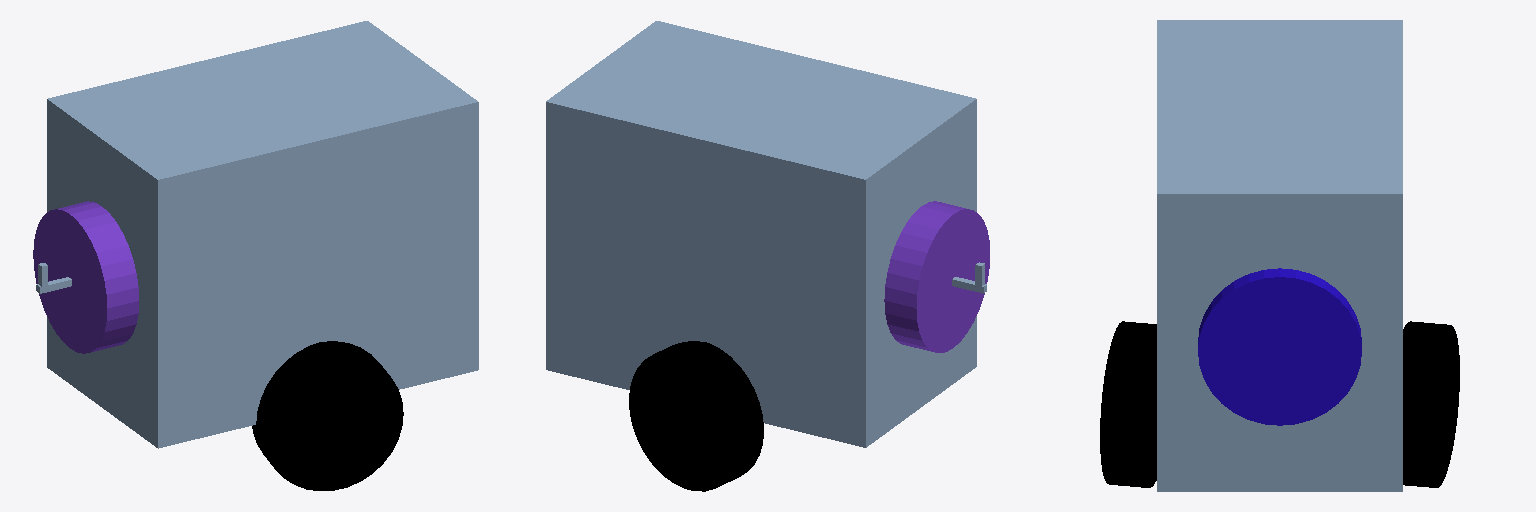
robot.urdf — simplecar:
<robot name="simplecar">
    <!-- Colors --> 
    <material name="black"> 
        <color rgba="0 0 0 1"/>
    </material>
    <material name="blue"> 
        <color rgba="0.6 0.7 0.8 1"/>
    </material>
    <material name="red"> 
        <color rgba="0.2 0.1 0.8 1"/>
    </material>
    <material name="dark"> 
        <color rgba="0.5 0.3 0.8 1"/>
    </material>

    <!-- Base Frame of Car --> 
    <link name="base_link">
        <visual> 
            <geometry> 
                <box size="0.5 0.3 0.4"/>
            </geometry>
            <material name="blue"/>
        </visual>
        <collision>
            <geometry> 
                <box size="0.5 0.3 0.4"/>
            </geometry>

         </collision>
        <inertial> 
            <mass value="3"/>
            <inertia ixx="0.2" ixy="0" ixz="0" iyy="0.2" iyz="0.0" izz="0.2"/>
        </inertial> 
    </link> 


  <link name = "male">
      <visual>
       <geometry> 
                <cylinder length="0.05" radius="0.1"/>
            </geometry>
            <origin rpy="0 1.57 0"/>
            <material name="red"/>
        </visual>
        <collision> 
             <geometry> 
                <cylinder length="0.05" radius="0.1"/>
            </geometry>
            <origin rpy="0 1.57 0"/>
        </collision> 
        <inertial> 
            <origin rpy="0 1.57 0"/>
            <mass value="0"/>
            <inertia ixx="0.4" ixy="0" ixz="0" iyy="0.4" iyz="0.0" izz="0.2"/>
        </inertial> 
    </link> 

    <joint name="male_base" type="continuous">
        <parent link="base_link"/>
        <child link="male"/> 
        <axis xyz="0 0 1"/>
        <origin xyz="0.25 0 0"/>
    </joint>


  <link name = "female">
      <visual>
       <geometry> 
                <cylinder length="0.05" radius="0.1"/>
            </geometry>
            <origin rpy="0 1.57 0"/>
            <material name="dark"/>
        </visual>
        <collision> 
             <geometry> 
                <cylinder length="0.05" radius="0.1"/>
            </geometry>
            <origin rpy="0 1.57 0"/>
        </collision> 
        <inertial> 
            <origin rpy="0 1.57 0"/>
            <mass value="0"/>
            <inertia ixx="0.4" ixy="0" ixz="0" iyy="0.4" iyz="0.0" izz="0.2"/>
        </inertial> 
    </link> 

    <joint name="female_base" type="continuous">
        <parent link="base_link"/>
        <child link="female"/> 
        <axis xyz="1 0 0"/>
        <origin xyz="-0.275 0 0"/>
    </joint>




    
    <link name="hook">
        <visual> 
            <geometry> 
                <box size="0.05 0.01 0.01"/>
            </geometry>
            <material name="blue"/>
        </visual>
        <collision>
              <geometry> 
                <box size="0.05 0.01 0.01"/>
            </geometry>

        </collision>
       
        <inertial> 
            <mass value="0"/>
            <inertia ixx="0.2" ixy="0" ixz="0" iyy="0.2" iyz="0.0" izz="0.2"/>
        </inertial> 
       
    </link> 

  
   <joint name="hook_body" type = "continuous">
   <parent link = "female"/>
    <child link= "hook"/>
    <axis xyz = "1 0 0"/>
    <origin xyz = "-0.05 0 0"/>
   </joint>

 <link name= "hookup" >
        <visual> 
            <geometry> 
                <box size="0.01 0.01 0.03"/>
            </geometry>
            <material name="blue"/>
        </visual>

        <collision>
           <geometry> 
                <box size="0.01 0.01 0.03"/>
            </geometry>
        </collision>
        <inertial> 
            <mass value="0"/>
            <inertia ixx="0.2" ixy="0" ixz="0" iyy="0.2" iyz="0.0" izz="0.2"/>
        </inertial> 
       
    </link> 
   
     <joint name = "Hook1" type = "fixed">
      <parent link="hook"/>
        <child link="hookup"/> 
        <origin xyz="-0.017 0 0.02"/>


     </joint>

   
 <!-- Left Back Wheel -->
    <link name="left_back_wheel">
        <visual> 
            <geometry> 
                <cylinder length="0.05" radius="0.1"/>
            </geometry>
            <origin rpy="1.57075 1.57075 -0.2"/>
            <material name="black"/>
        </visual>
        <collision> 
             <geometry> 
                <cylinder length="0.05" radius="0.1"/>
            </geometry>
            <origin rpy="1.57075 1.57075 -0.2"/>
        </collision> 
        <inertial> 
            <origin rpy="1.57075 1.57075 -0.2"/>
            <mass value="0.7"/>
            <inertia ixx="0.4" ixy="0" ixz="0" iyy="0.4" iyz="0.0" izz="0.2"/>
        </inertial> 
    </link> 
    <joint name="base_to_left_back_wheel" type="continuous">
        <parent link="base_link"/>
        <child link="left_back_wheel"/> 
        <axis xyz="0 1 0"/>
        <origin xyz="0 0.175 -0.2"/>
    </joint>
   



  <!-- Right Back Wheel -->
    <link name="right_back_wheel">
        <visual> 
            <geometry> 
                <cylinder length="0.05" radius="0.1"/>
            </geometry>
            <origin rpy="-1.57075 -1.57075 -0.2"/>
            <material name="black"/>
        </visual>
        <collision> 
             <geometry> 
                <cylinder length="0.05" radius="0.1"/>
            </geometry>
            <origin rpy="-1.57075 -1.57075 -0.2"/>
        </collision> 
        <inertial> 
            <origin rpy="-1.57075 -1.57075 -0.2"/>
            <mass value="0.7"/>
            <inertia ixx="0.4" ixy="0" ixz="0" iyy="0.4" iyz="0.0" izz="0.2"/>
        </inertial> 
    </link> 
    <joint name="base_to_right_back_wheel" type="continuous">
        <parent link="base_link"/>
        <child link="right_back_wheel"/> 
        <axis xyz="0 1 0"/>
        <origin xyz="0 -0.175 -0.2"/>
    </joint>

</robot>

--- What the picture shows (computed from the rendered views, not written in the file) ---
The picture shows the robot from 3 angles, left to right: view 1: azimuth 30°, elevation 25°; view 2: azimuth 150°, elevation 25°; view 3: azimuth 270°, elevation 25°; orthographic projection.
Model simplecar with 7 links and 6 joints (5 continuous, 1 fixed), rooted at base_link, posed every joint at zero.
Visible links, largest first — view 1: base_link, right_back_wheel, female; view 2: base_link, left_back_wheel, female; view 3: base_link, male, left_back_wheel, right_back_wheel.
Boxes of the visible links, x1,y1,x2,y2 form: base_link: (47,21,478,448); right_back_wheel: (252,341,403,490); female: (33,201,138,353); base_link: (546,21,976,447); left_back_wheel: (629,341,763,491); female: (884,201,989,352); base_link: (1157,20,1402,491); male: (1198,268,1361,425); left_back_wheel: (1403,321,1459,487); right_back_wheel: (1100,321,1156,487).
Bounding box of the posed robot: 0.6251 × 0.4387 × 0.5 m (x, y, z).
Geometry: primitives only (box / cylinder / sphere), no mesh files.